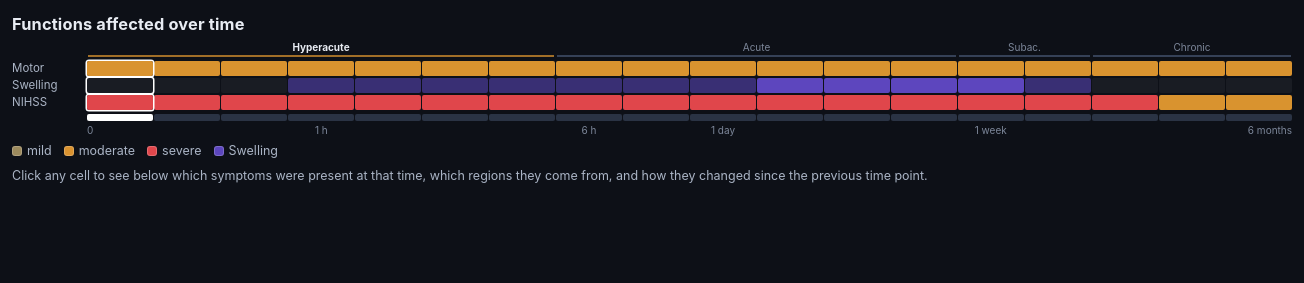
Test: function heat-map cell detail › shows within-category changes and continuous meters without losing ordinal timeline fills
This screenshot has width=1304, height=283.
Click the button named "Motor · 1 day": (723, 69) [690,61,756,76]
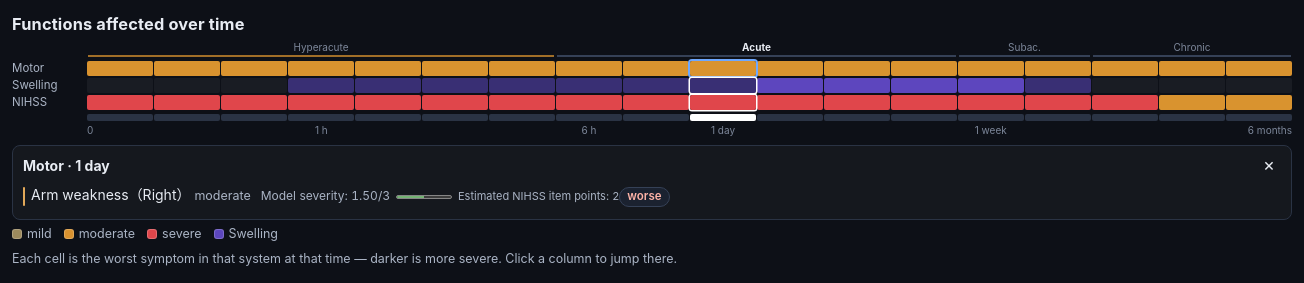
expect the element named "Model severity" holds "1.5": met, box [396,192,452,201]
expect the text "worse" is shown: met, box [619,187,670,207]
